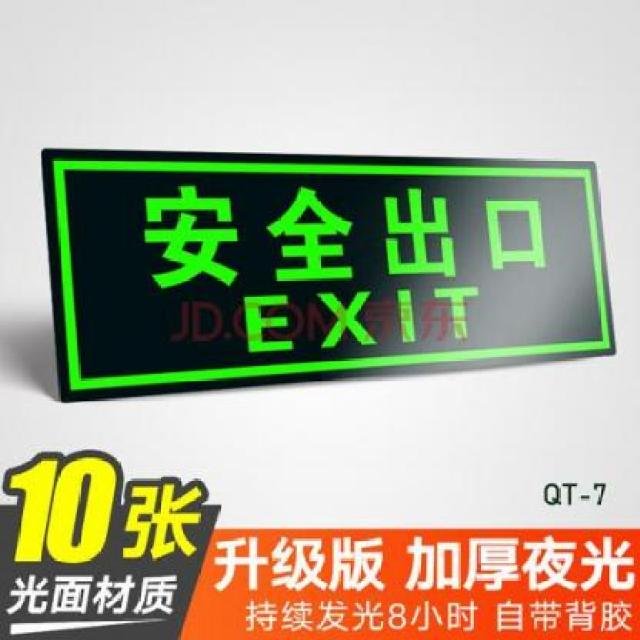exit_sign: (37, 137, 618, 381)
